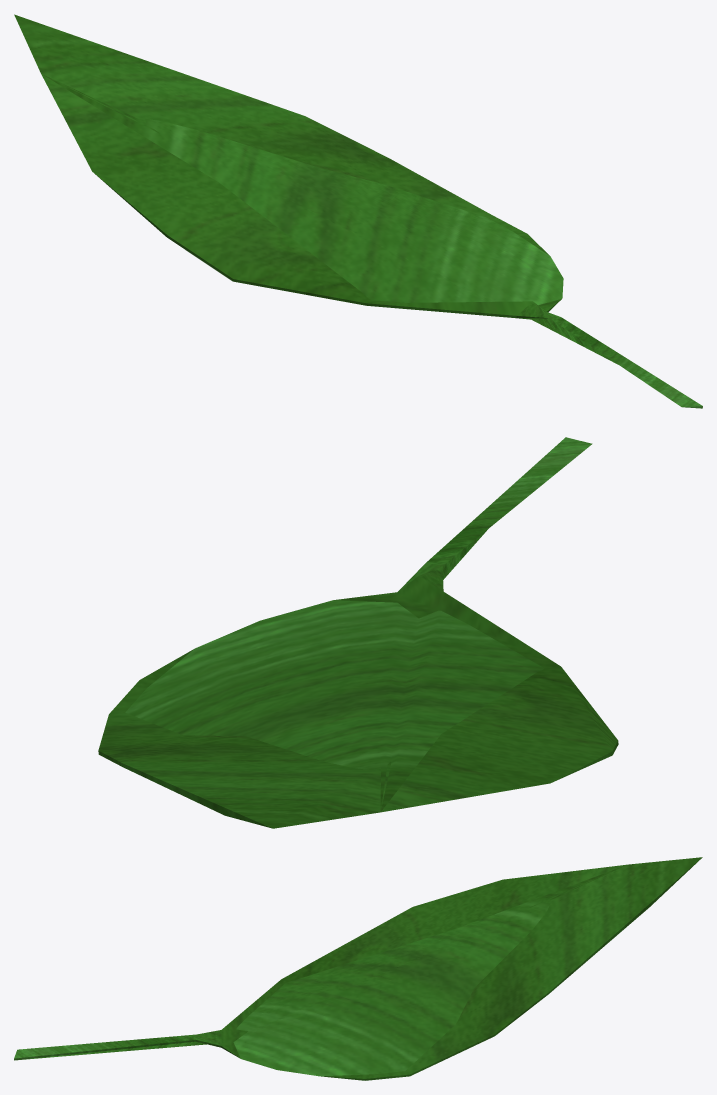
File: Leaf_Animation.fbx
3 views of the same model, one above another, from view 1: azimuth 30°, elevation 25°; view 2: azimuth 150°, elevation 25°; view 3: azimuth 270°, elevation 25° (orthographic). The views are drawn at different scales.
Visible parts, largest first — view 1: polySurface3; view 2: polySurface3; view 3: polySurface3.
Boxes of the visible parts, box(x1,y1,x2,y2) form: polySurface3: box(14, 14, 702, 408); polySurface3: box(98, 437, 618, 828); polySurface3: box(14, 857, 702, 1080).
Size of the model in its own units: 0.235 by 0.0891 by 0.5113.
